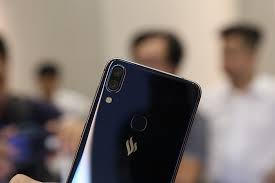vsmart: (54, 58, 203, 183)
